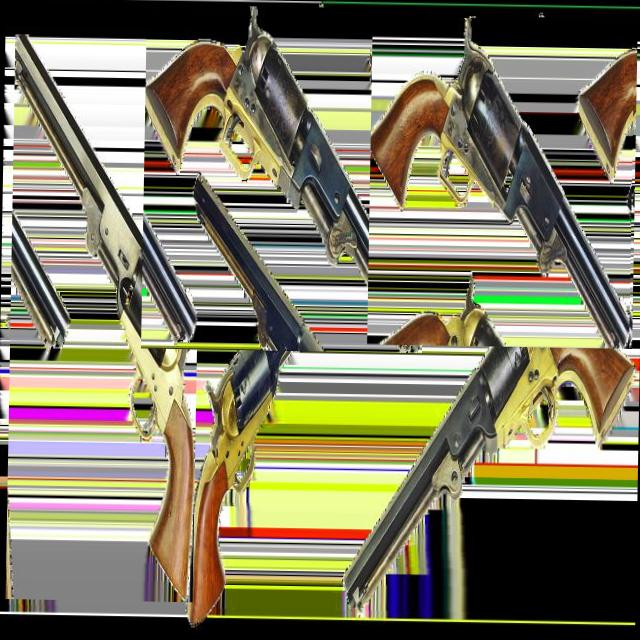Gun: (16, 34, 196, 602), (145, 6, 422, 353), (343, 294, 633, 608), (373, 16, 632, 348), (371, 18, 629, 348), (187, 182, 374, 623), (198, 418, 247, 509)
